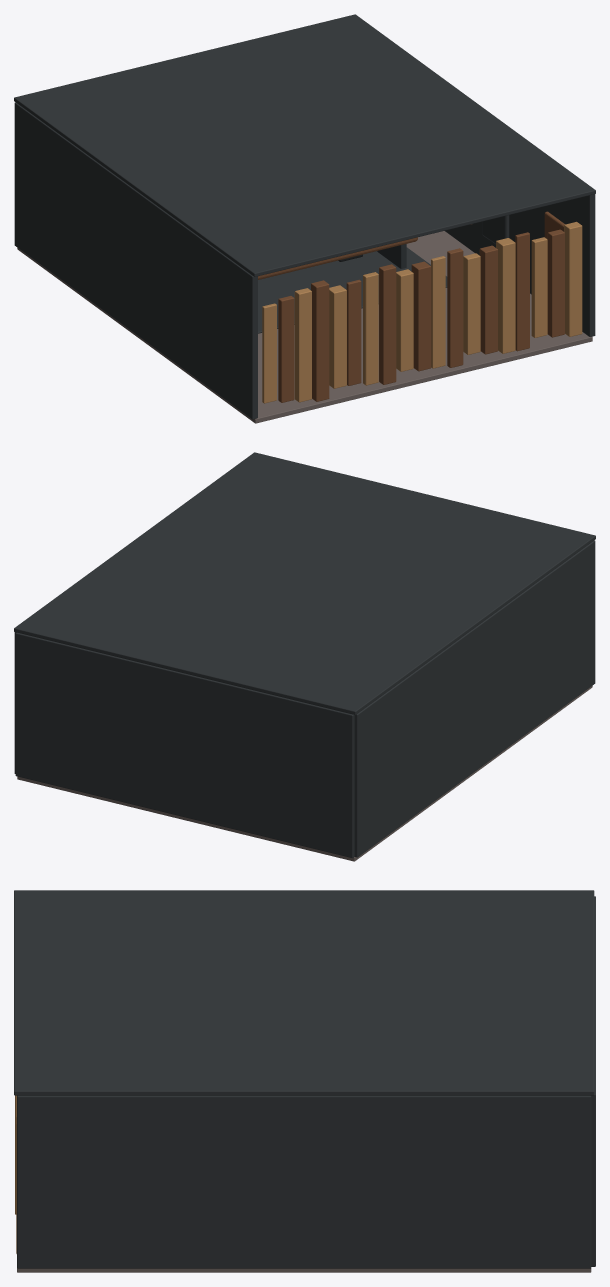
File: production_room_001.glb
The picture shows the model from 3 angles, top to bottom: view 1: azimuth 30°, elevation 25°; view 2: azimuth 150°, elevation 25°; view 3: azimuth 270°, elevation 25°; orthographic projection. The views are drawn at different scales.
Visible parts, largest first — view 1: ceiling, left_acoustic_treatment, wood_floor, right_acoustic_treatment, production_rug, rear_diffuser_04, rear_diffuser_08, rear_diffuser_15, rear_diffuser_10, rear_diffuser_19, rear_diffuser_03, rear_diffuser_12 (+14 smaller); view 2: ceiling, front_acoustic_wall, left_acoustic_treatment, wood_floor; view 3: ceiling, right_acoustic_treatment, wood_floor, front_acoustic_wall.
Boxes of the visible parts, x1,y1,x2,y2 form: ceiling: (14,14,595,276); left_acoustic_treatment: (14,102,257,419); wood_floor: (17,231,592,423); right_acoustic_treatment: (444,194,595,336); production_rug: (258,247,447,333); rear_diffuser_04: (311,280,329,401); rear_diffuser_08: (379,264,396,384); rear_diffuser_15: (496,238,515,353); rear_diffuser_10: (411,261,431,371); rear_diffuser_19: (564,221,582,336); rear_diffuser_03: (294,288,311,402); rear_diffuser_12: (447,248,463,367); ceiling: (14,452,595,714); front_acoustic_wall: (15,632,354,858); left_acoustic_treatment: (354,540,595,857); wood_floor: (17,686,592,861); ceiling: (14,890,594,1095); right_acoustic_treatment: (17,1095,591,1268); wood_floor: (17,1268,591,1272); front_acoustic_wall: (591,896,595,1266).
Size of the model in its own units: 9.16 by 3.87 by 11.15.
